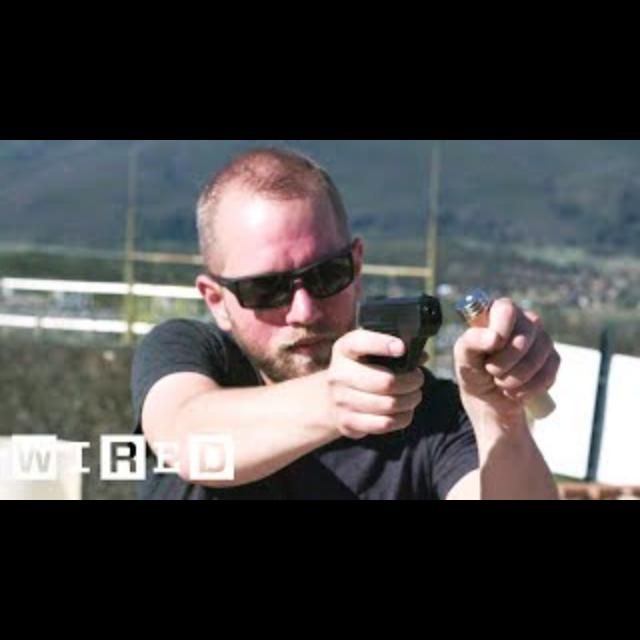handgun: (352, 288, 446, 376)
